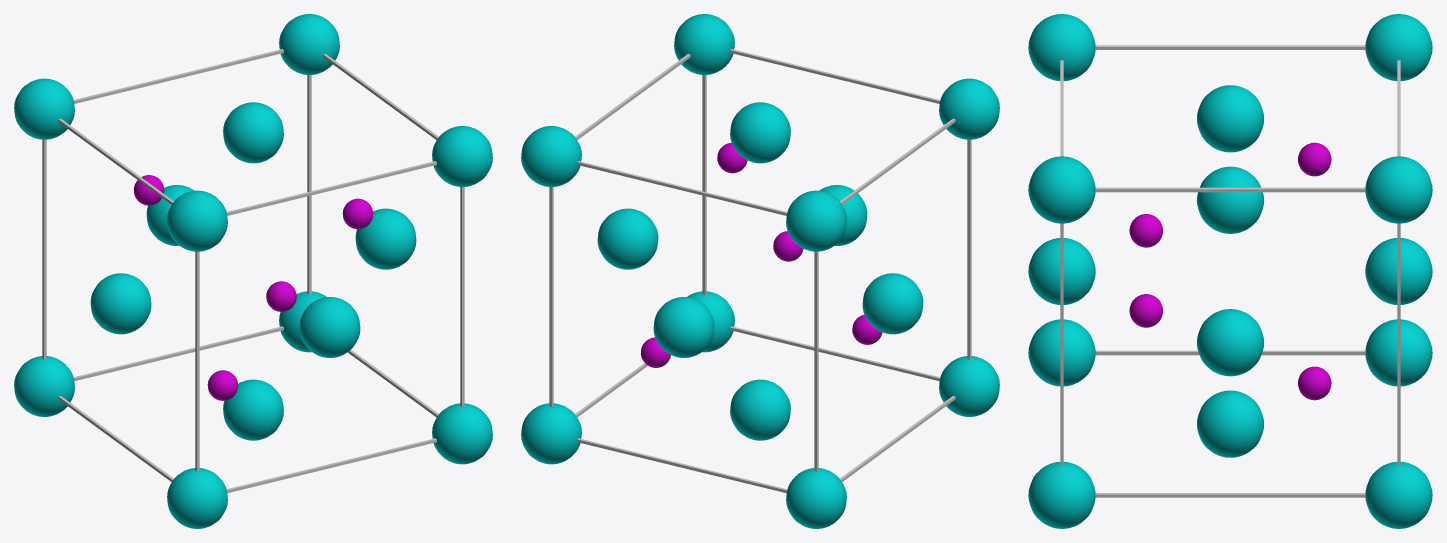
The model's file is blenda_centrado.glb.
3 views of the same model, side by side, from view 1: azimuth 30°, elevation 25°; view 2: azimuth 150°, elevation 25°; view 3: azimuth 270°, elevation 25° (orthographic). The views are drawn at different scales.
Visible parts, largest first — view 1: arista13; view 2: arista13; view 3: arista13.
Part boxes in pixels (x1,y1,x2,y2): arista13: (14,14,492,528); arista13: (521,14,999,528); arista13: (1028,14,1432,528).
Size of the model in its own units: 1.2 by 1.2 by 1.2.
